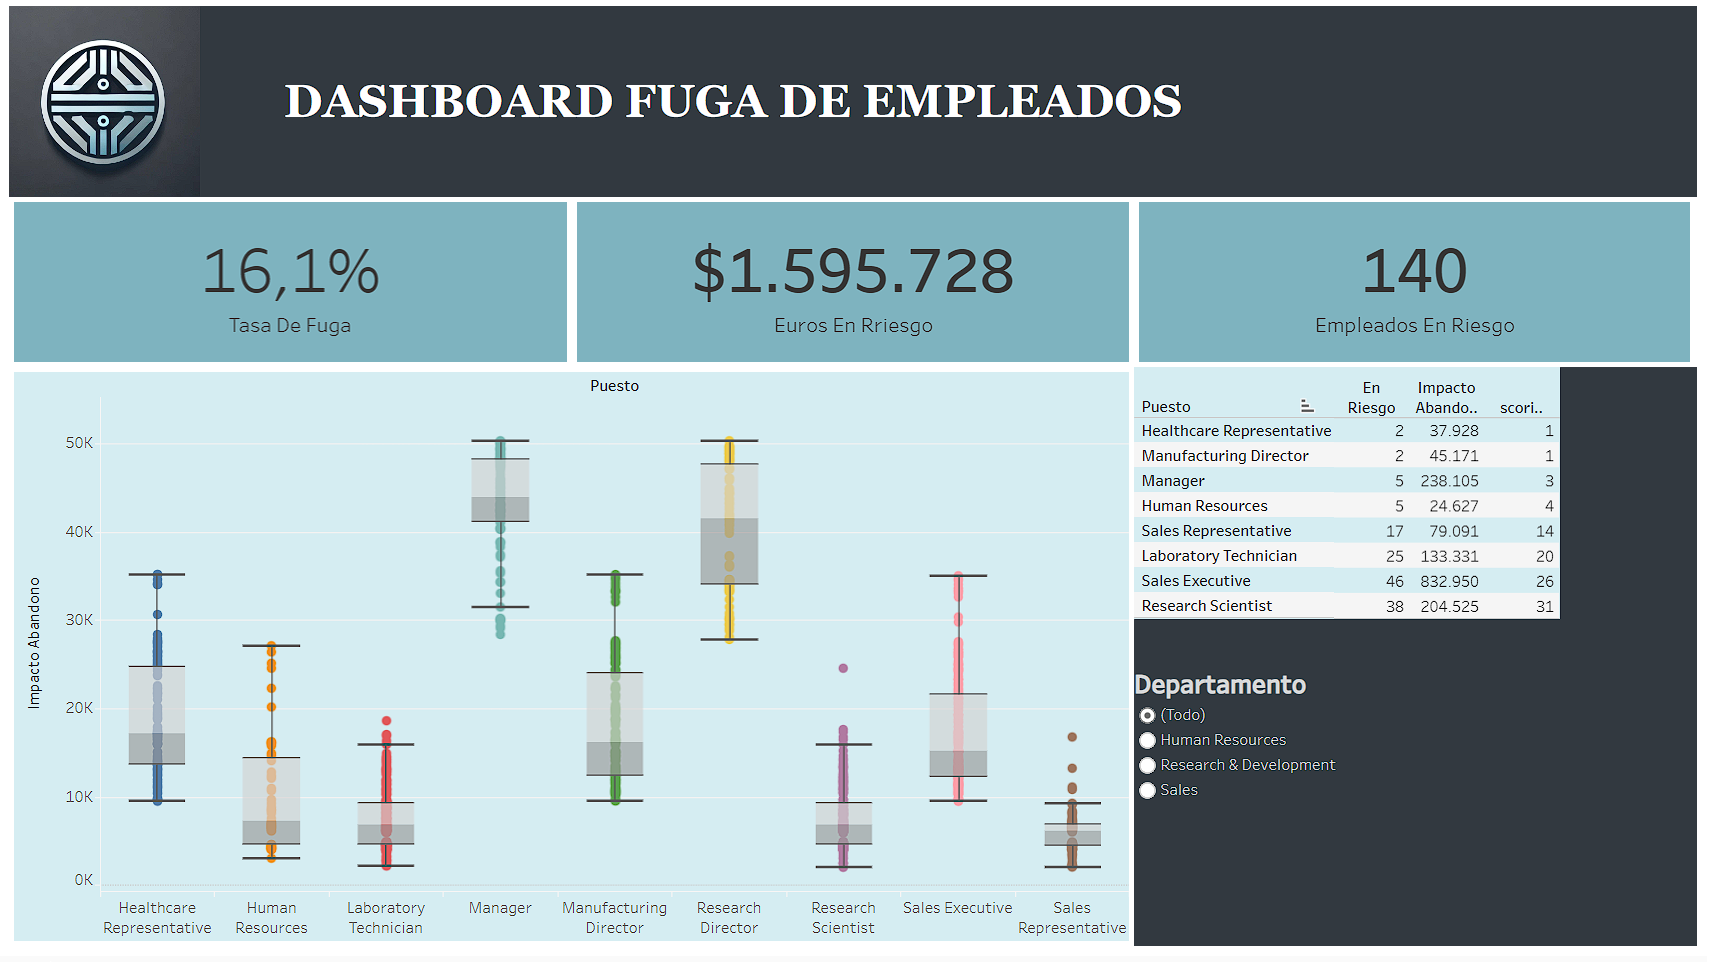

What the dashboard file says about the page in this screenshot:
{"tool":"tableau","page":{"name":"Dashboard 1","canvas":[1366,768],"ordinal":0},"visuals":[{"type":"image","param":"C:/Users/rizo_/Downloads/logo1.jpg","box":[8,8,220,153]},{"type":"text","box":[228,8,1130,153]},{"type":"worksheet","title":"KPI Tasa De Fuga","mark":"Automatic","box":[8,161,450,136]},{"type":"worksheet","title":"KPI Euros En Riesgo","mark":"Automatic","box":[458,161,450,136]},{"type":"worksheet","title":"KPI Empleados En Riesgo","mark":"Automatic","box":[908,161,450,136]},{"type":"worksheet","title":"Riesgo Por Puesto","mark":"Circle","rows":["impacto_abandono"],"cols":["puesto"],"box":[8,297,900,463]},{"type":"worksheet","title":"Puestos con mayor riesgo","mark":"Automatic","rows":["puesto"],"box":[908,297,450,239]},{"type":"filter","title":"KPI Tasa De Fuga","param":"[federated.1mqa2k512lrqt21gtr9tz1oidfhg].[none:departamento:nk]","box":[908,536,450,224]}]}

Visuals, with their boxes in screenshot pixels (x1, y1, x2, y2), scaled from the page's 1366x768 canvas onto the 1725x962 screenshot:
image: 10,10,288,202
text: 288,10,1715,202
"KPI Tasa De Fuga" worksheet: 10,202,578,372
"KPI Euros En Riesgo" worksheet: 578,202,1147,372
"KPI Empleados En Riesgo" worksheet: 1147,202,1715,372
"Riesgo Por Puesto" worksheet (Circle marks): 10,372,1147,952
"Puestos con mayor riesgo" worksheet: 1147,372,1715,671
"KPI Tasa De Fuga" filter: 1147,671,1715,952
